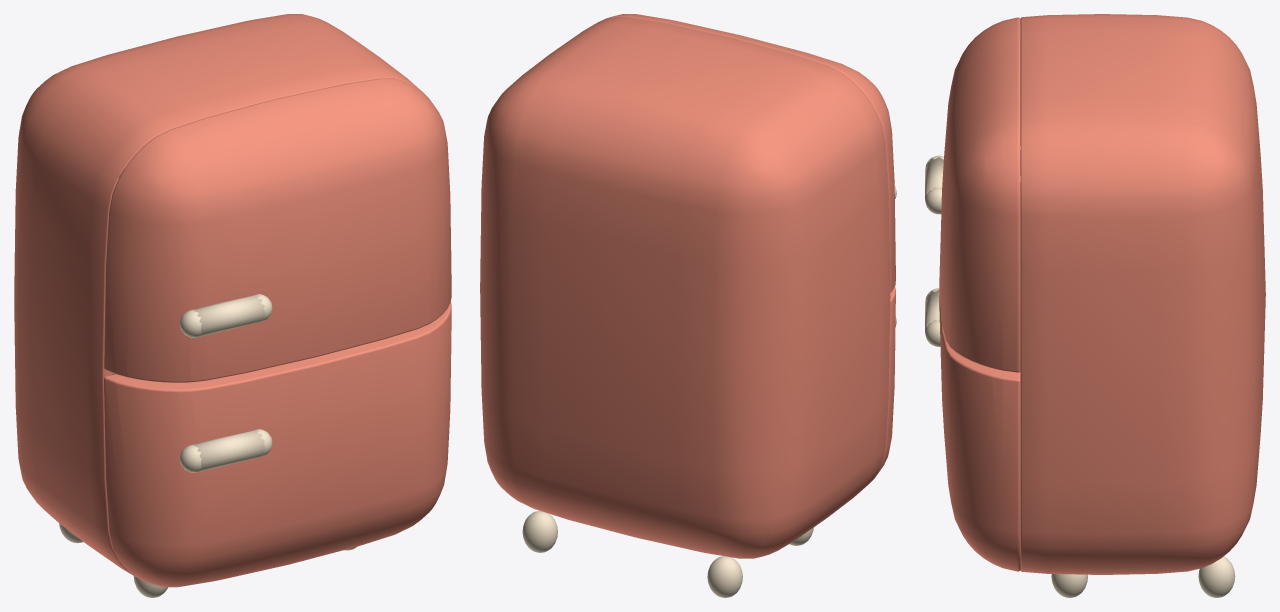
The model's file is fridge_b.glb.
3 renders of one model, left to right at view 1: azimuth 30°, elevation 25°; view 2: azimuth 150°, elevation 25°; view 3: azimuth 270°, elevation 25°, orthographic. The views are drawn at different scales.
Visible parts, largest first — view 1: door_top, door, body; view 2: body, door_top, door; view 3: body, door_top, door.
Part boxes in pixels (<box>): door_top: <box>104,78,451,382</box>; door: <box>104,301,451,587</box>; body: <box>14,14,419,597</box>; body: <box>480,17,890,597</box>; door_top: <box>597,14,896,292</box>; door: <box>867,286,896,485</box>; body: <box>1020,14,1265,597</box>; door_top: <box>925,17,1020,372</box>; door: <box>925,288,1020,571</box>.
Size of the model in its own units: 0.98 by 1.32 by 0.834.
